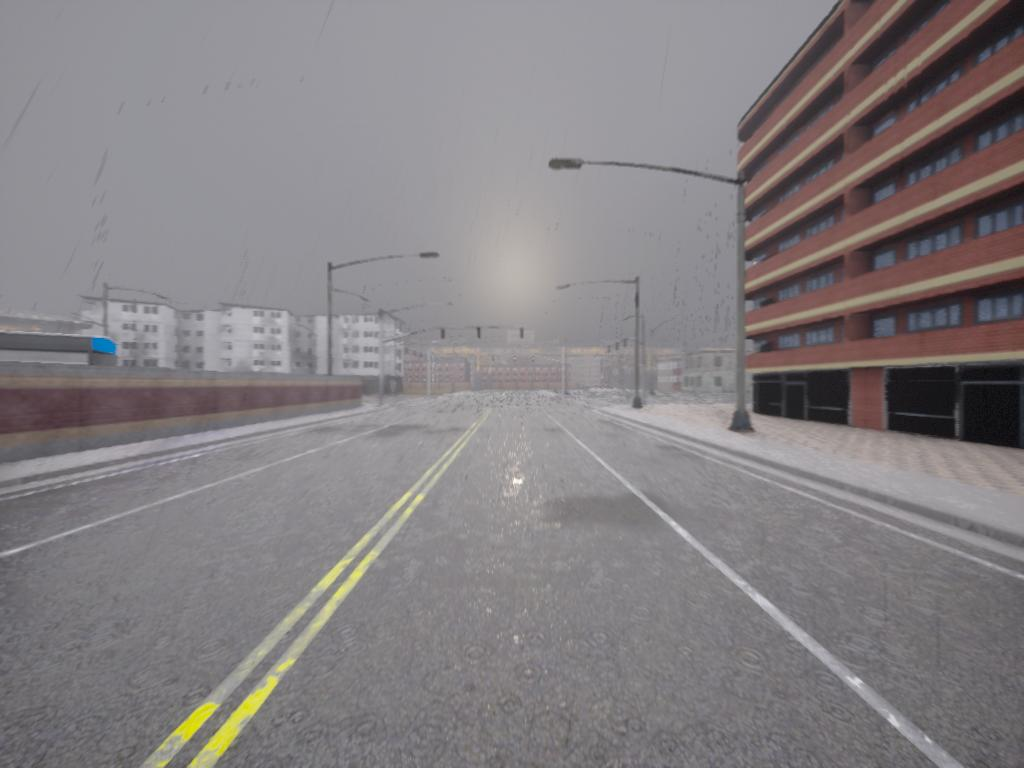traffic_light: (441, 329, 447, 341), (520, 328, 525, 341), (478, 329, 482, 339), (616, 344, 620, 353), (607, 347, 611, 355), (624, 340, 628, 348), (514, 356, 517, 364), (493, 356, 496, 363), (533, 357, 535, 365)
